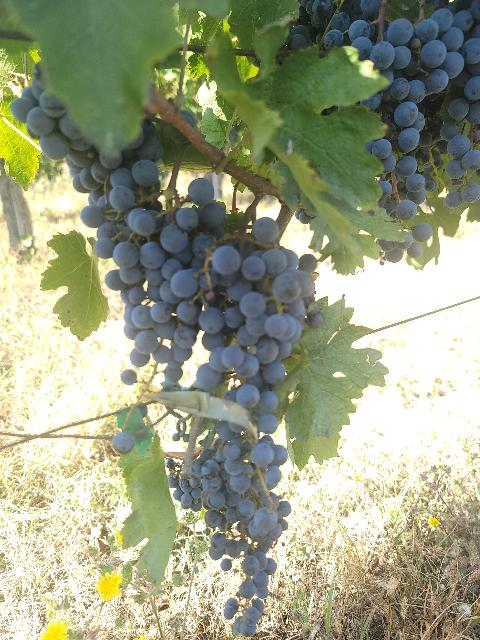grapes: (10, 62, 161, 258), (166, 415, 291, 636), (94, 179, 226, 382), (198, 218, 315, 419), (350, 20, 430, 221), (415, 1, 480, 185)
